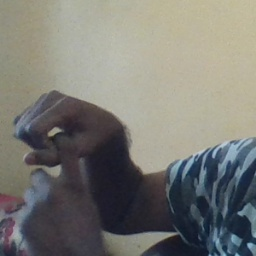Q: (10, 81, 116, 238)
